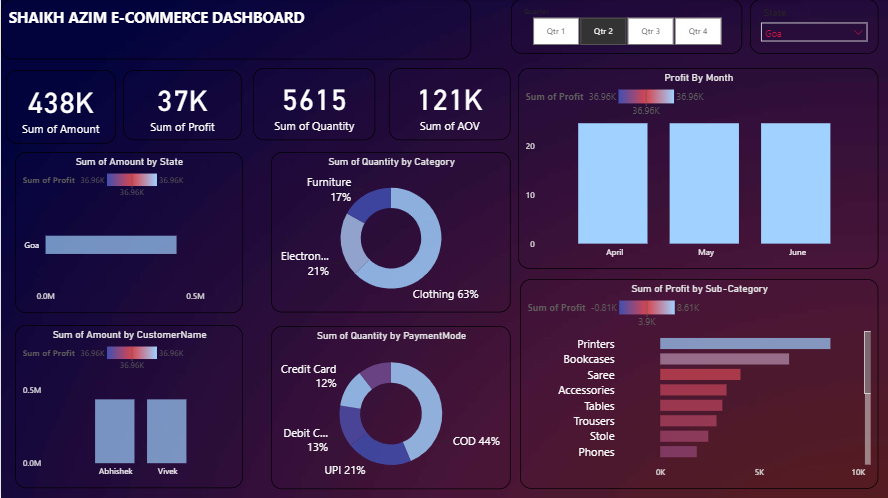

The dashboard page shown, as its layout file describes it:
{"tool":"powerbi","page":{"name":"Page 1","canvas":[1280,720],"ordinal":0},"visuals":[{"type":"textbox","box":[0,0,677,87.3],"z":0},{"type":"columnChart","title":"Profit By Month","fields":{"Y":["Avg(Details.Profit)"],"Category":["Orders.Order Date.Variation.Date Hierarchy.Month"]},"box":[744.1,99.1,519.1,288.9],"z":1000},{"type":"barChart","fields":{"Category":["Details.Sub-Category"],"Y":["Sum(Details.Profit)"]},"box":[747.5,403.1,515.7,302.4],"z":2000},{"type":"donutChart","fields":{"Category":["Details.Category"],"Y":["Sum(Details.Quantity)"]},"box":[388.1,220.2,345.5,231.2],"z":3000},{"type":"donutChart","fields":{"Category":["Details.PaymentMode"],"Y":["Sum(Details.Quantity)"]},"box":[388.1,470.7,345.5,235.4],"z":4000},{"type":"card","fields":{"Values":["Sum(Details.Amount)"]},"box":[6.7,102.5,157.9,105.8],"z":5000},{"type":"card","fields":{"Values":["Sum(Details.Quantity)"]},"box":[362.8,99.1,176.4,104.1],"z":6000},{"type":"card","fields":{"Values":["Sum(Details.Profit)"]},"box":[176.4,102.5,171.3,100.8],"z":7000},{"type":"card","fields":{"Values":["Sum(Details.AOV)"]},"box":[559.4,99.1,174.7,104.1],"z":8000},{"type":"barChart","fields":{"Y":["Sum(Details.Amount)"],"Category":["Orders.State"]},"box":[20.2,220.1,327.6,231.8],"z":9000},{"type":"columnChart","fields":{"Category":["Orders.CustomerName"],"Y":["Sum(Details.Amount)"]},"box":[20,470,328.3,235],"z":10000},{"type":"slicer","fields":{"Values":["Orders.Order Date.Variation.Date Hierarchy.Quarter"]},"box":[734.1,0,332.6,79],"z":11000},{"type":"slicer","fields":{"Values":["Orders.State"]},"box":[1078.4,0,184.8,79],"z":12000}]}

Visuals, with their boxes in screenshot pixels (x1, y1, x2, y2), scaled from the page's 1280x720 canvas onto the 888x498 screenshot:
textbox: pyautogui.locateOnScreen(0, 0, 470, 60)
"Profit By Month" columnChart: pyautogui.locateOnScreen(516, 69, 876, 268)
barChart - Details.Sub-Category x Sum(Details.Profit): pyautogui.locateOnScreen(519, 279, 876, 488)
donutChart - Details.Category x Sum(Details.Quantity): pyautogui.locateOnScreen(269, 152, 509, 312)
donutChart - Details.PaymentMode x Sum(Details.Quantity): pyautogui.locateOnScreen(269, 326, 509, 488)
card - Sum(Details.Amount): pyautogui.locateOnScreen(5, 71, 114, 144)
card - Sum(Details.Quantity): pyautogui.locateOnScreen(252, 69, 374, 141)
card - Sum(Details.Profit): pyautogui.locateOnScreen(122, 71, 241, 141)
card - Sum(Details.AOV): pyautogui.locateOnScreen(388, 69, 509, 141)
barChart - Sum(Details.Amount) x Orders.State: pyautogui.locateOnScreen(14, 152, 241, 313)
columnChart - Orders.CustomerName x Sum(Details.Amount): pyautogui.locateOnScreen(14, 325, 242, 488)
slicer - Orders.Order Date.Variation.Date Hierarchy.Quarter: pyautogui.locateOnScreen(509, 0, 740, 55)
slicer - Orders.State: pyautogui.locateOnScreen(748, 0, 876, 55)
